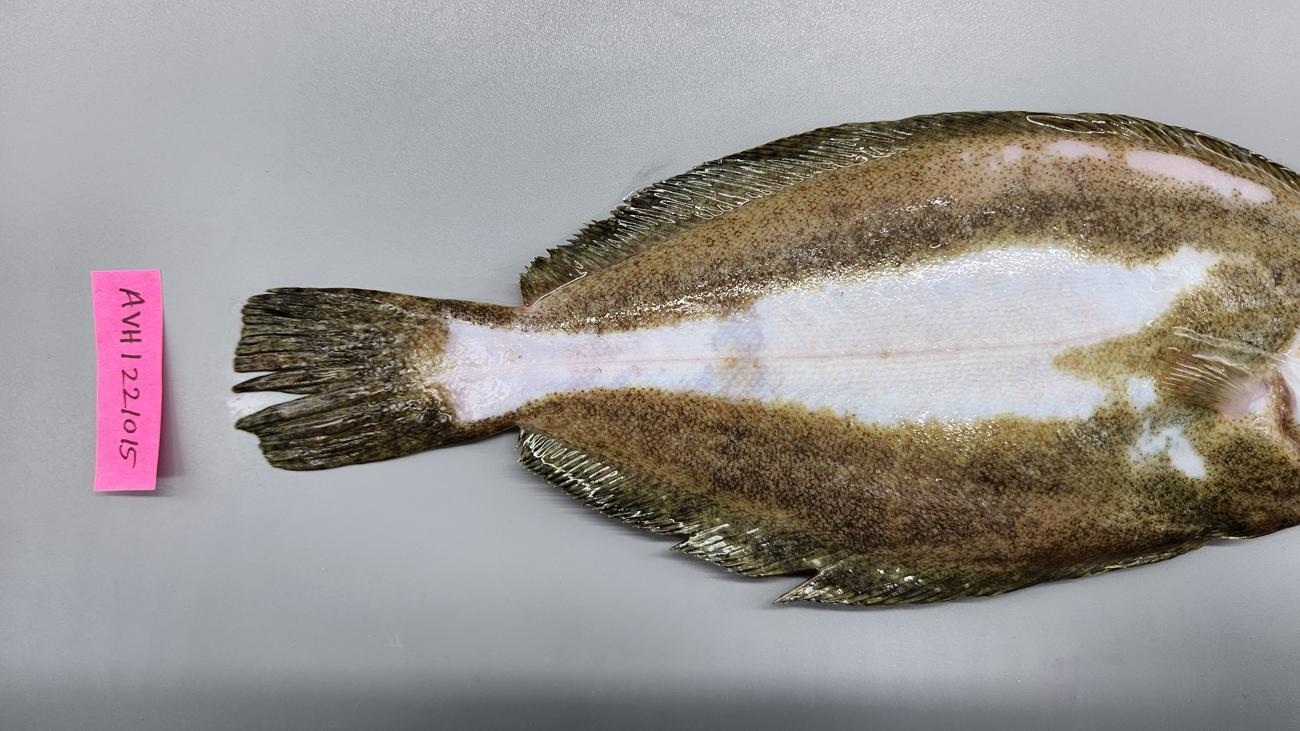VIDYH: (765, 131, 1296, 237), (717, 448, 1073, 543), (404, 288, 595, 440)
